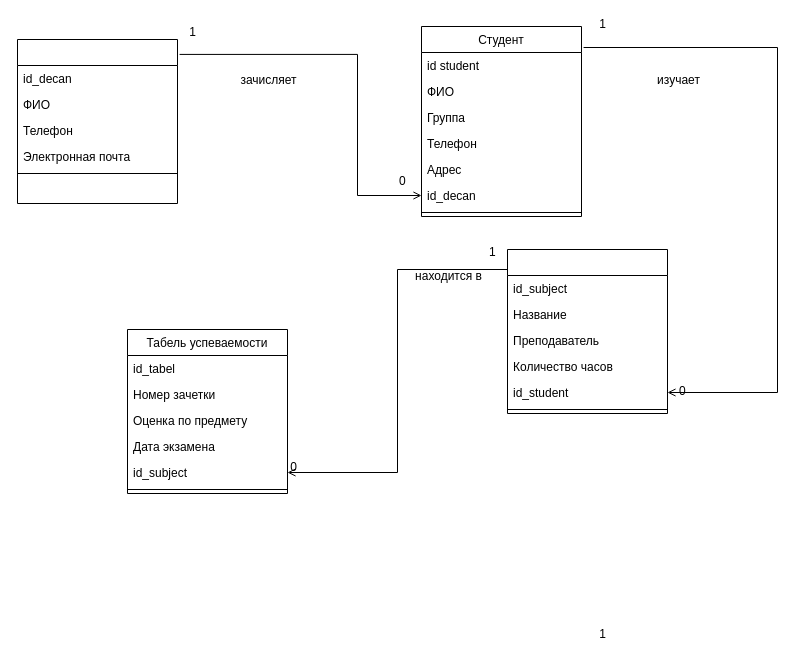
The diagram is 803 pixels wide and 660 high, and some of its shapes have lost their labels. The box of each missing label's shape, as (x1, y1, x2, y2) in pixels:
Декан: (16, 38, 178, 204)
Предмет: (506, 248, 668, 414)
